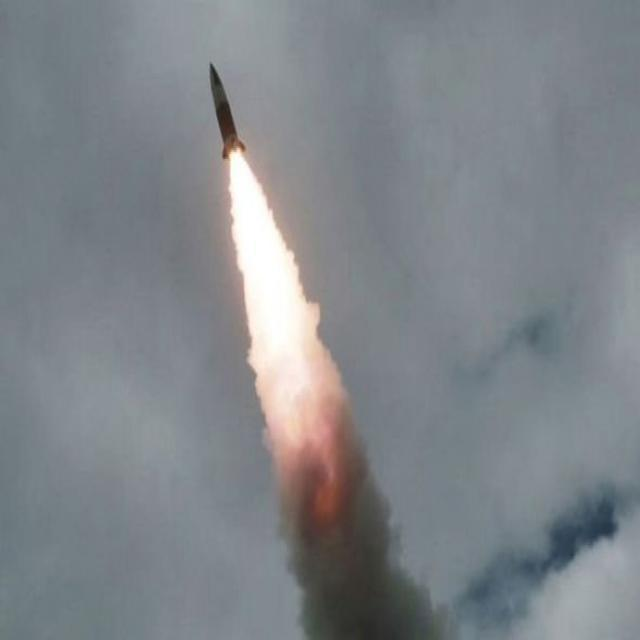Missile: (202, 46, 244, 172)
